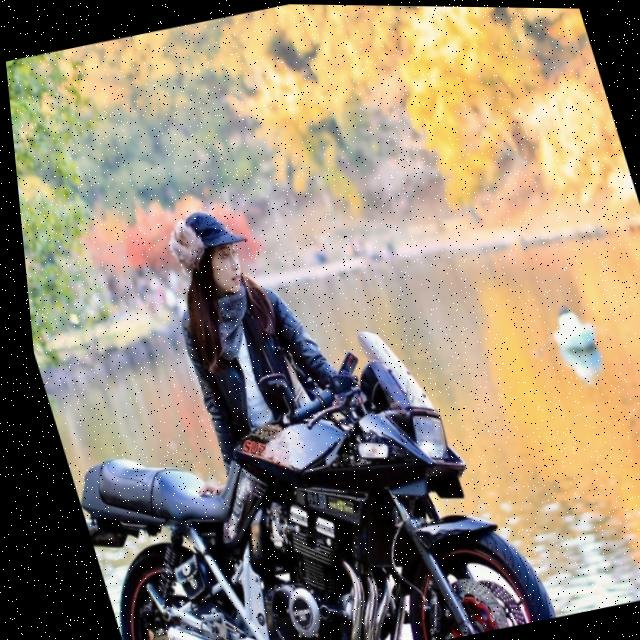illegal_helmet: (146, 196, 262, 310)
